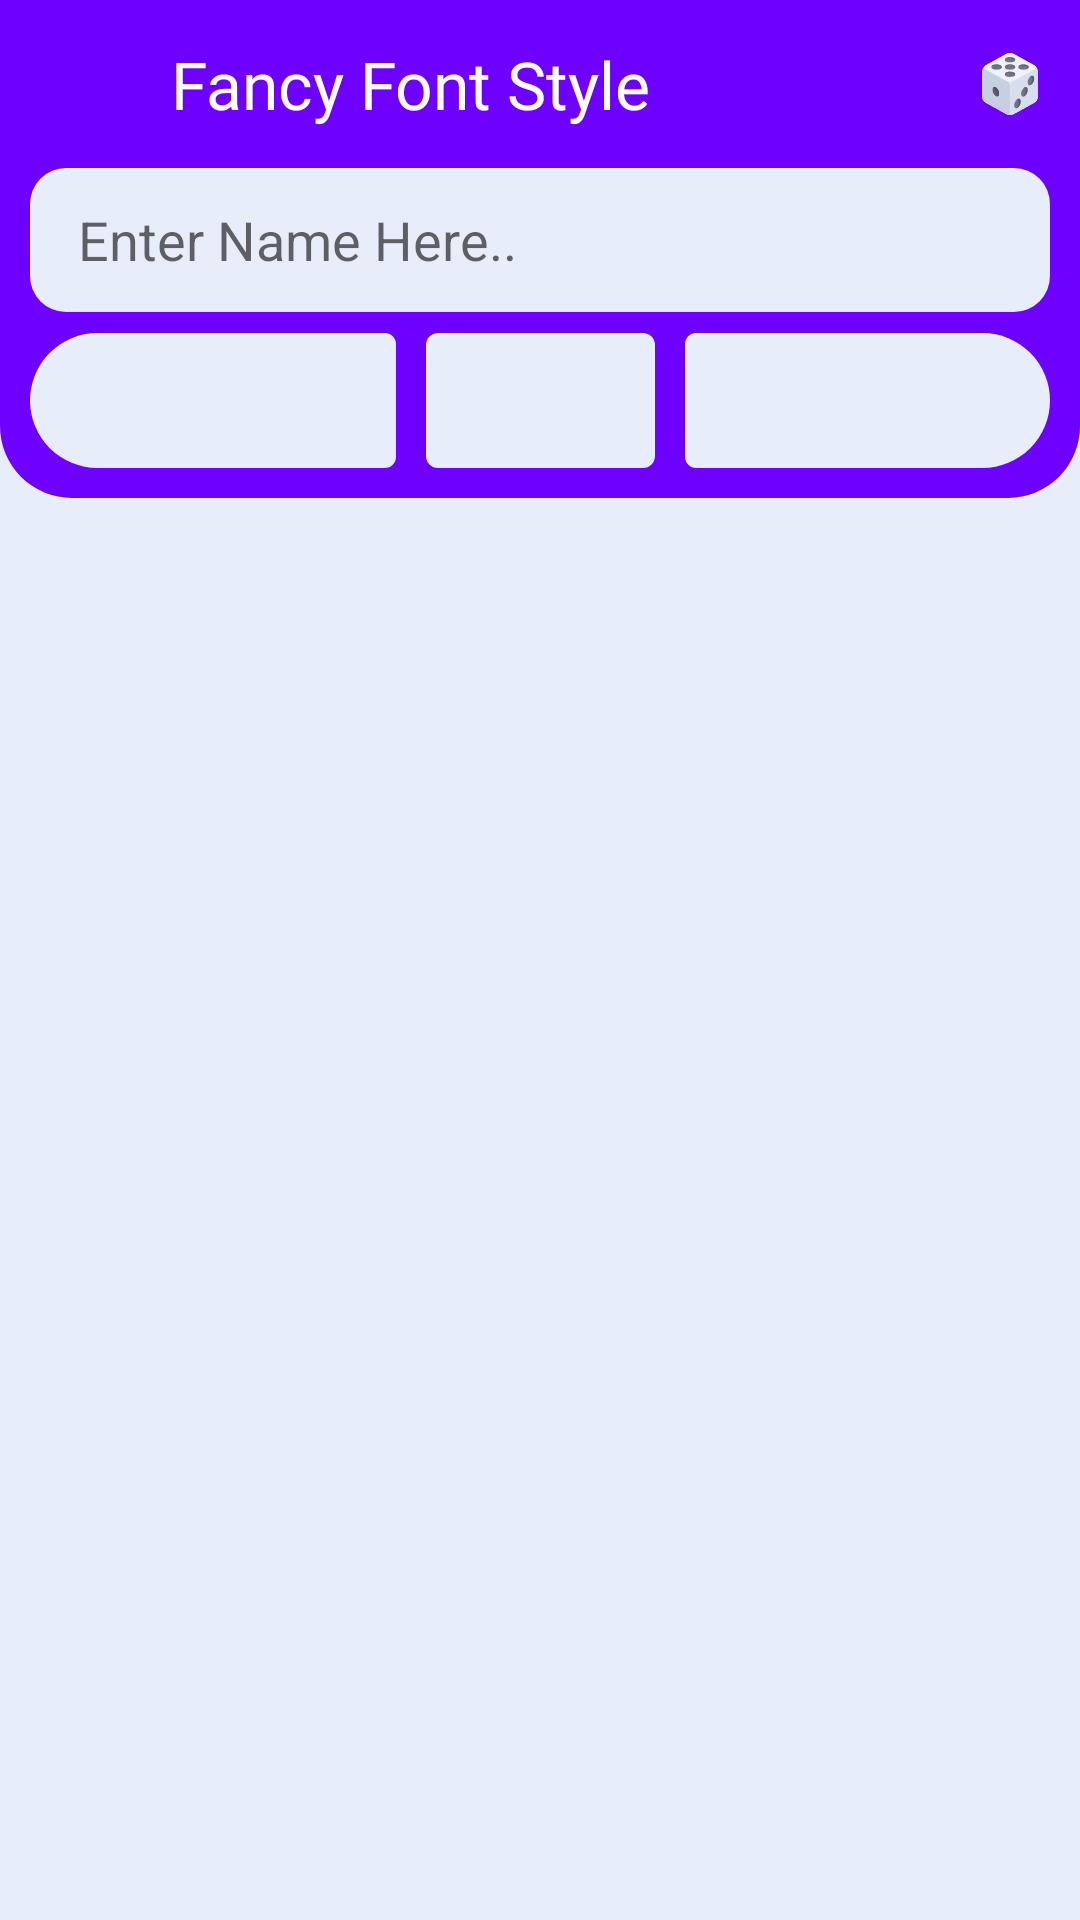

Locate icon controls on the screen. Image size 1080w x 1920h, boxes as (x1, y1, x2, y2).
gambler casino: (982, 53, 1038, 115)
